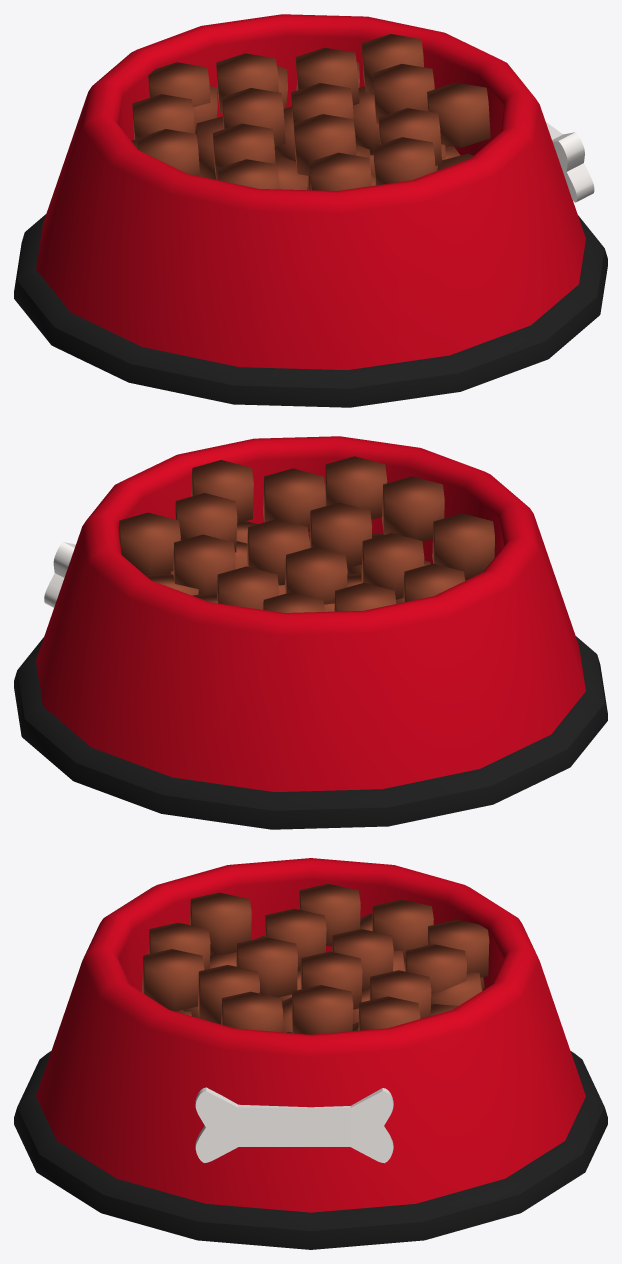
Rendered from köpke mama kabı 1(yuvarlak).fbx.
3 views of the same model, one above another, from view 1: azimuth 30°, elevation 25°; view 2: azimuth 150°, elevation 25°; view 3: azimuth 270°, elevation 25° (orthographic).
Visible parts, largest first — view 1: Circle.001; view 2: Circle.001; view 3: Circle.001.
Part boxes in pixels (bbox=[...]): Circle.001: bbox=[14, 14, 607, 407]; Circle.001: bbox=[14, 436, 607, 829]; Circle.001: bbox=[14, 858, 607, 1249].
Size of the model in its own units: 18.74 by 6.19 by 18.74.
Materials: 1 (1 with a texture image).
